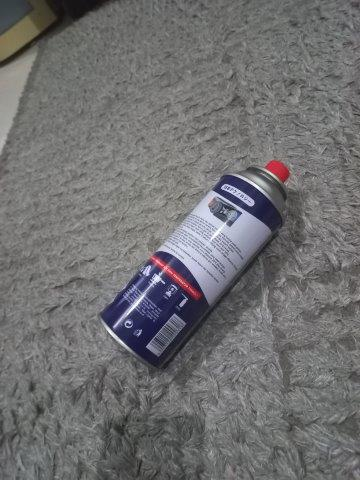kaleng: (96, 158, 291, 372)
